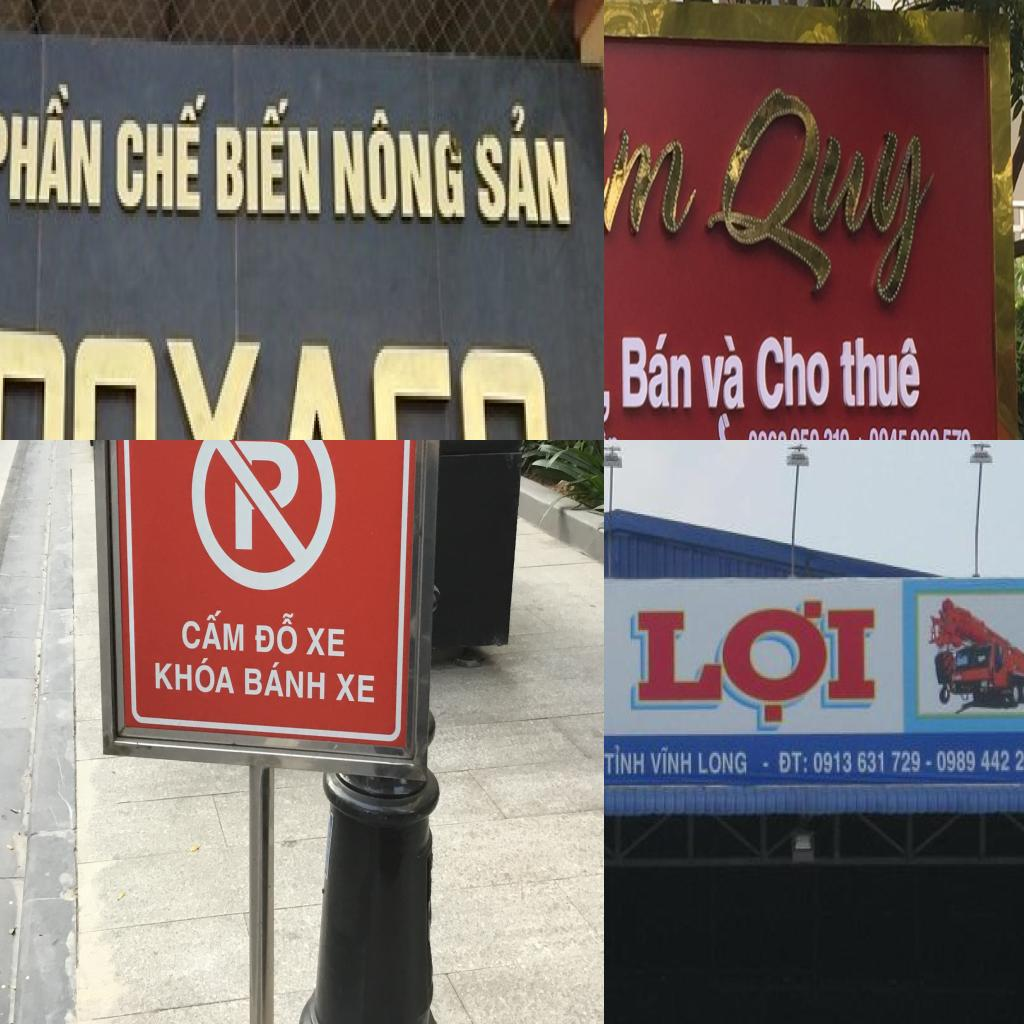text: (0, 324, 564, 440), (698, 83, 951, 319), (628, 596, 878, 726), (604, 63, 702, 246), (333, 106, 468, 224), (0, 77, 107, 213), (216, 99, 322, 220), (473, 106, 572, 231), (116, 92, 210, 217), (836, 334, 922, 415), (620, 326, 694, 415), (752, 336, 830, 415), (698, 334, 748, 413), (154, 654, 237, 699), (243, 659, 326, 701), (180, 607, 246, 653), (810, 750, 924, 775), (252, 611, 299, 656), (648, 744, 694, 778), (746, 425, 850, 440), (604, 744, 647, 780), (868, 427, 972, 440), (335, 672, 375, 705), (698, 751, 748, 777), (305, 628, 346, 657), (778, 749, 809, 777)
